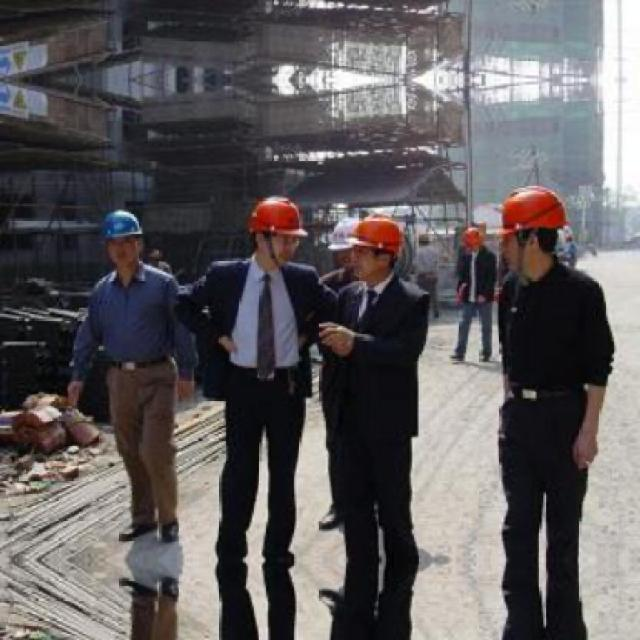helmet: (503, 186, 568, 277), (248, 192, 308, 263), (352, 215, 408, 280), (99, 206, 148, 271), (325, 212, 360, 276), (463, 223, 488, 257)
